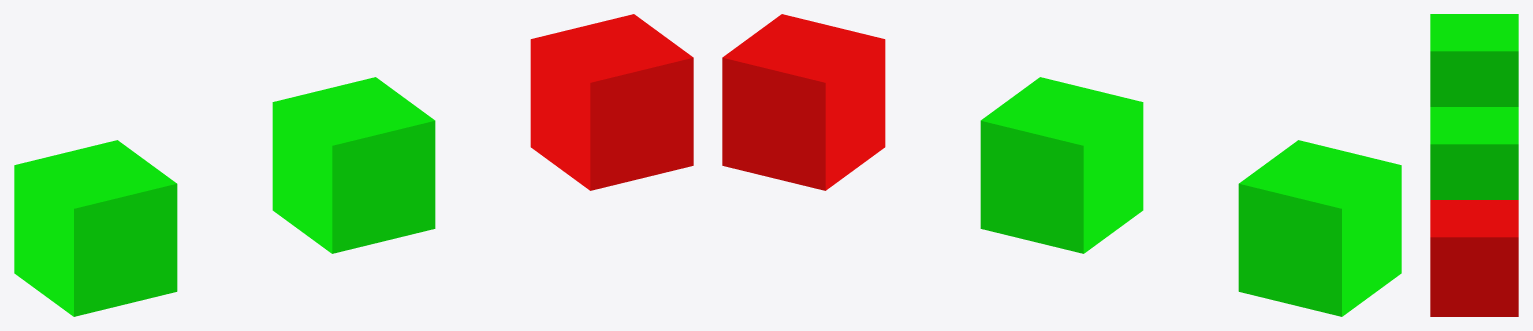
Rendered from relationships_ex3.glb.
3 views of the same model, side by side, from view 1: azimuth 30°, elevation 25°; view 2: azimuth 150°, elevation 25°; view 3: azimuth 270°, elevation 25° (orthographic). The views are drawn at different scales.
Parts seen in each view (by area): view 1: Cube_2, Cube_1, Cube_3; view 2: Cube_2, Cube_1, Cube_3; view 3: Cube_3, Cube_1, Cube_2.
Part boxes in pixels (left/top/right/bottom): Cube_2: left=272, top=77, right=435, bottom=253; Cube_1: left=14, top=140, right=177, bottom=316; Cube_3: left=530, top=14, right=693, bottom=190; Cube_2: left=980, top=77, right=1143, bottom=253; Cube_1: left=1238, top=140, right=1401, bottom=316; Cube_3: left=722, top=14, right=885, bottom=190; Cube_3: left=1430, top=200, right=1518, bottom=316; Cube_1: left=1430, top=14, right=1518, bottom=106; Cube_2: left=1430, top=107, right=1518, bottom=199.
Bounding box in the file's own units: 12 × 2 × 2.
